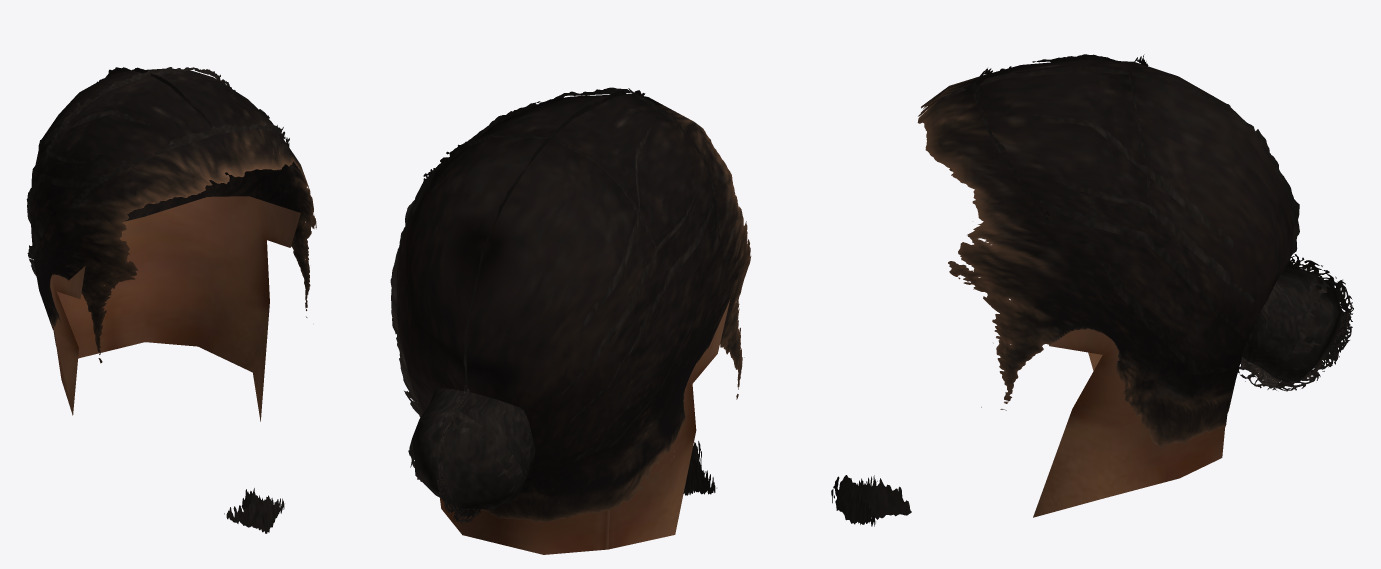
File: nld-dijk.glb
3 renders of one model, left to right at view 1: azimuth 30°, elevation 25°; view 2: azimuth 150°, elevation 25°; view 3: azimuth 270°, elevation 25°, orthographic. The views are drawn at different scales.
Visible parts, largest first — view 1: hair; view 2: hair; view 3: hair.
Part boxes in pixels (x1=…): hair: x1=26, y1=67, x2=316, y2=533; hair: x1=390, y1=87, x2=751, y2=554; hair: x1=831, y1=54, x2=1353, y2=526.
Bounding box in the file's own units: 0.163 × 0.2735 × 0.2646.
2 materials, 2 textured.
